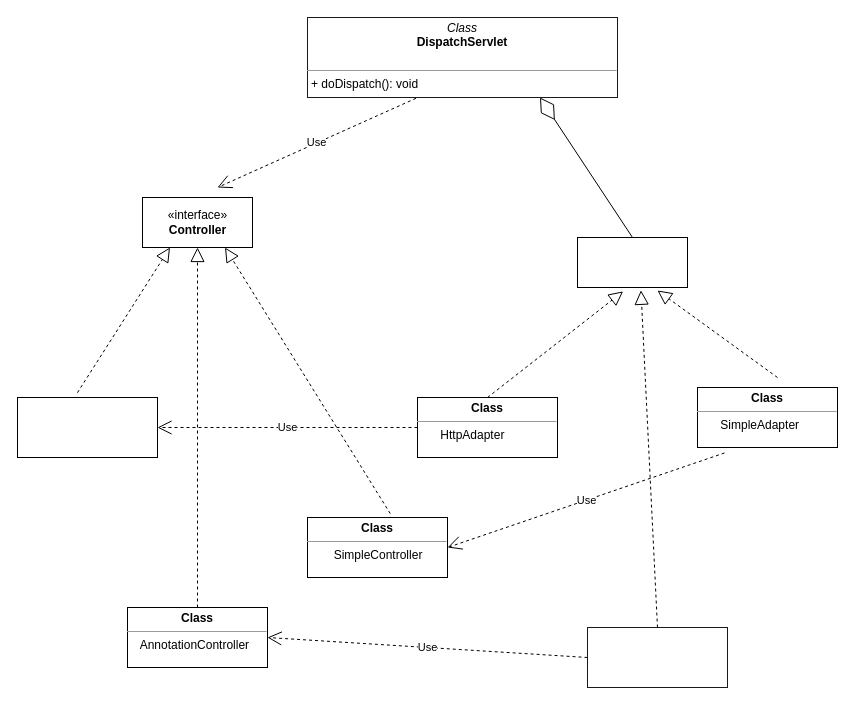
Image size: 855x705. Some labels were removed from this diagram. The shapes that lost their labels are listed below. From the top down, each one's centre as x and y in pixels, then its label:
At pixel 632 262: "«interface» HandlerAdapter".
At pixel 87 427: "Class HttpController".
At pixel 657 657: "Class AnnotationAdapter".
